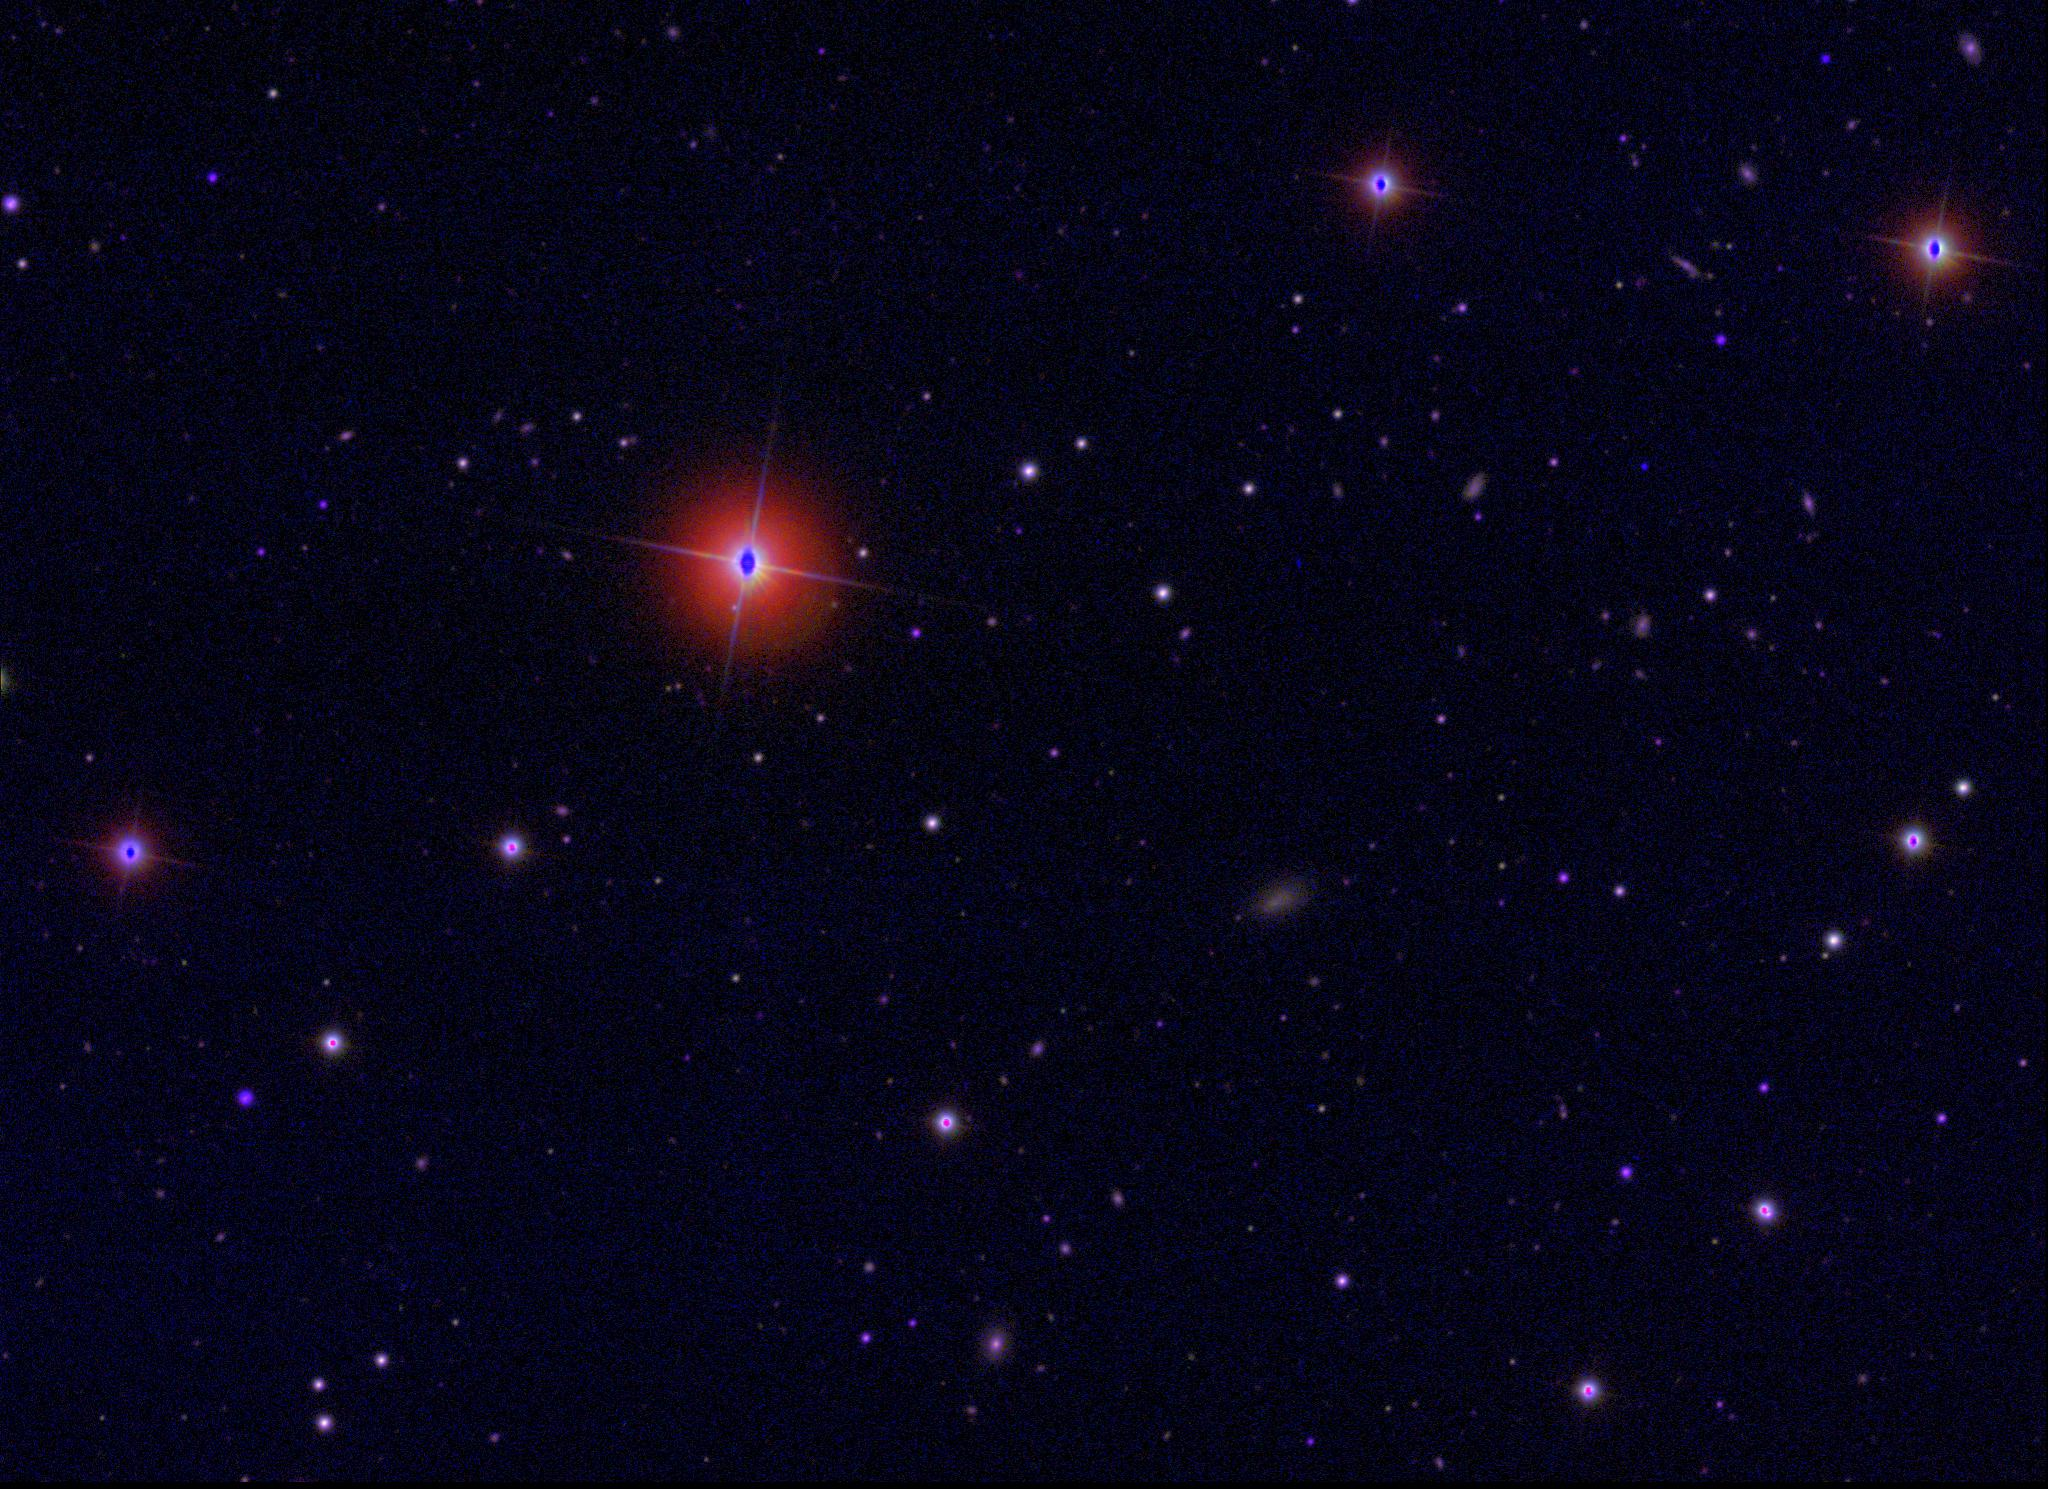L: (1635, 460, 1647, 472)
